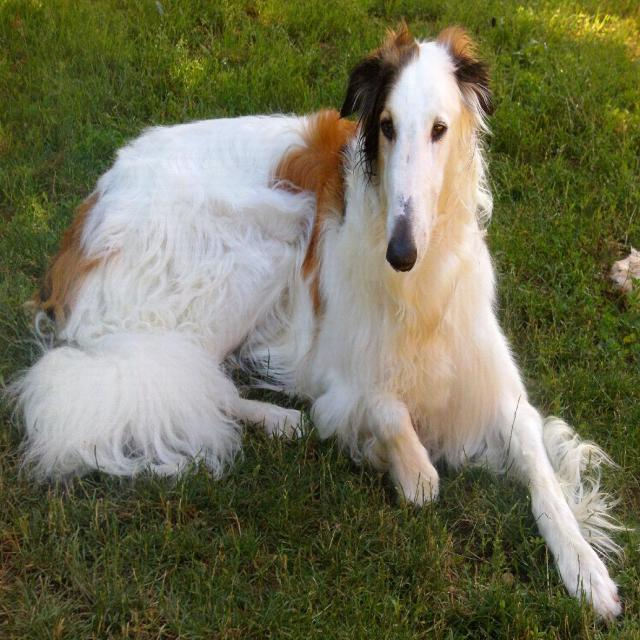dog: (295, 0, 553, 339)
